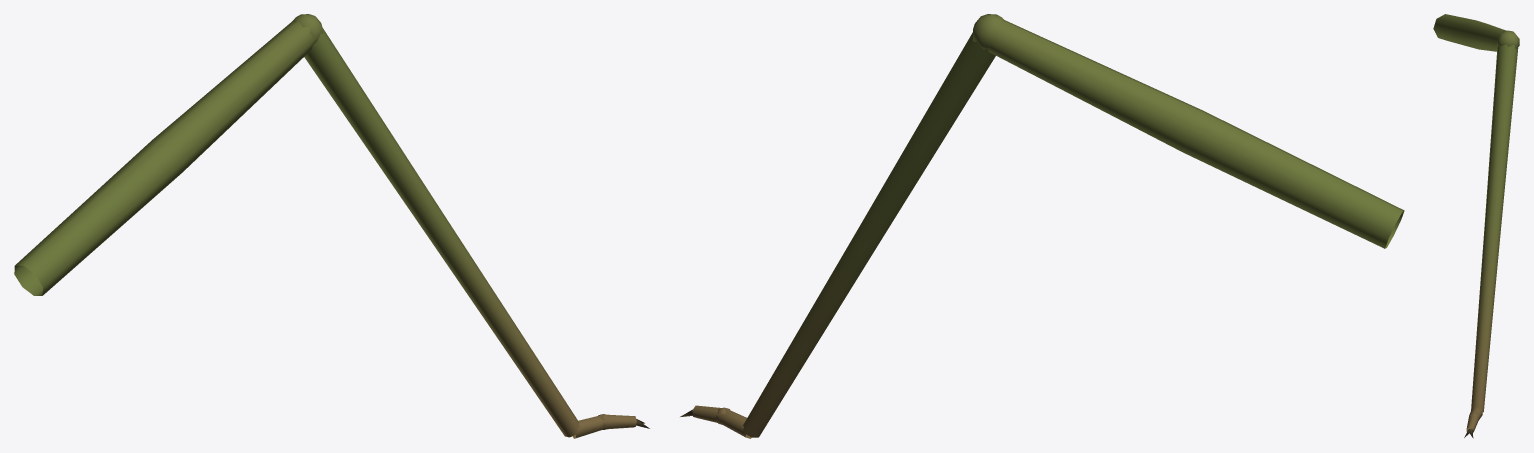
Rendered from Nanafushi_Leg2.fbx.
3 views of the same model, side by side, from view 1: azimuth 30°, elevation 25°; view 2: azimuth 150°, elevation 25°; view 3: azimuth 270°, elevation 25° (orthographic). The views are drawn at different scales.
Parts seen in each view (by area): view 1: Nanafushi_Leg2; view 2: Nanafushi_Leg2; view 3: Nanafushi_Leg2.
Boxes of the visible parts, x1=… form: Nanafushi_Leg2: x1=14, y1=14, x2=649, y2=438; Nanafushi_Leg2: x1=680, y1=14, x2=1404, y2=438; Nanafushi_Leg2: x1=1433, y1=14, x2=1519, y2=438.
Bounding box in the file's own units: 0.7951 × 0.5494 × 0.1398.
